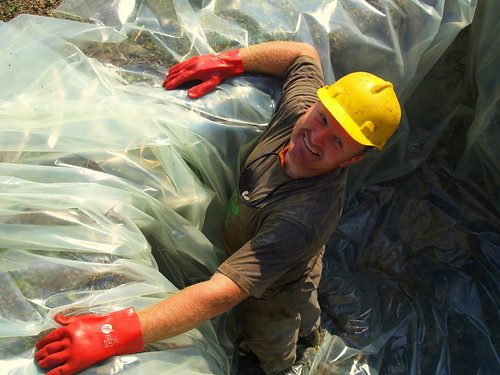person hardhat: (43, 41, 402, 375)
